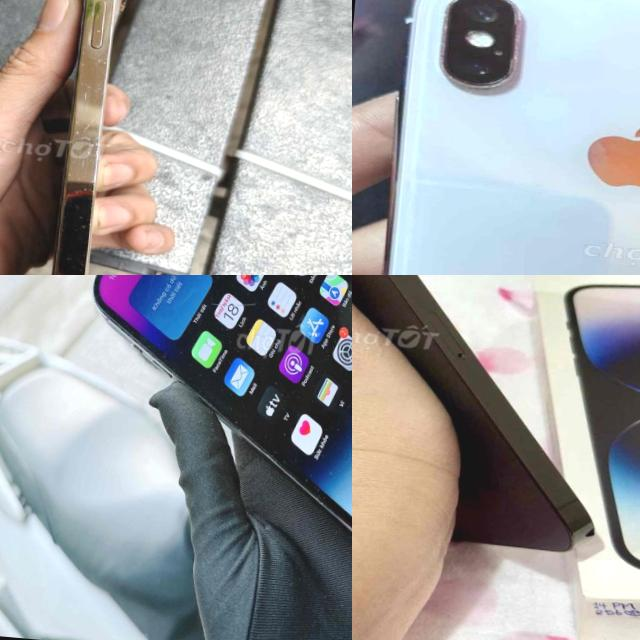physical_damage: (197, 276, 274, 320)
scratch: (58, 0, 124, 250), (425, 0, 555, 106)
